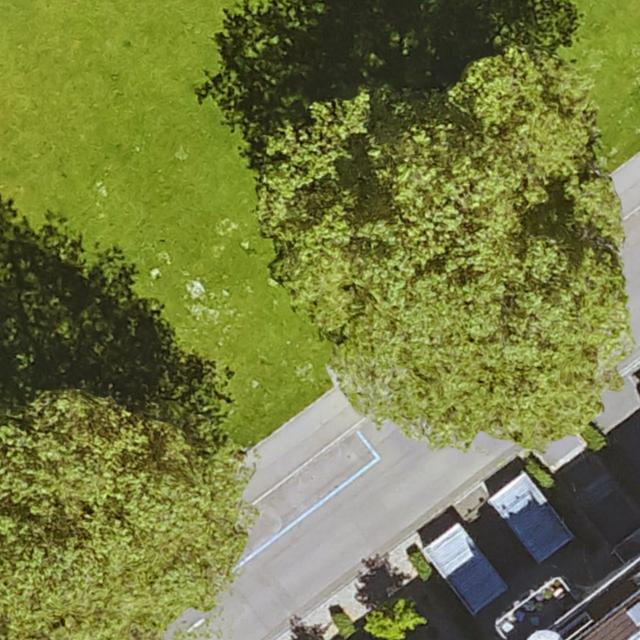tree: (259, 45, 625, 454), (0, 391, 245, 637), (371, 599, 419, 640)
